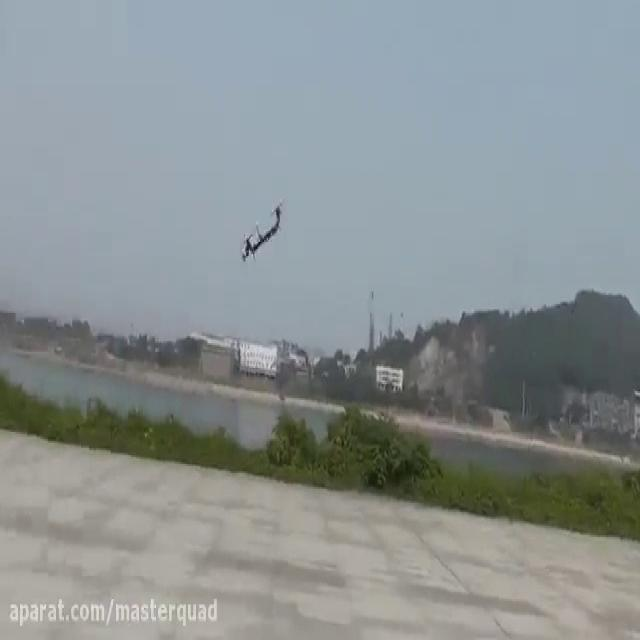drone: (236, 190, 289, 265)
